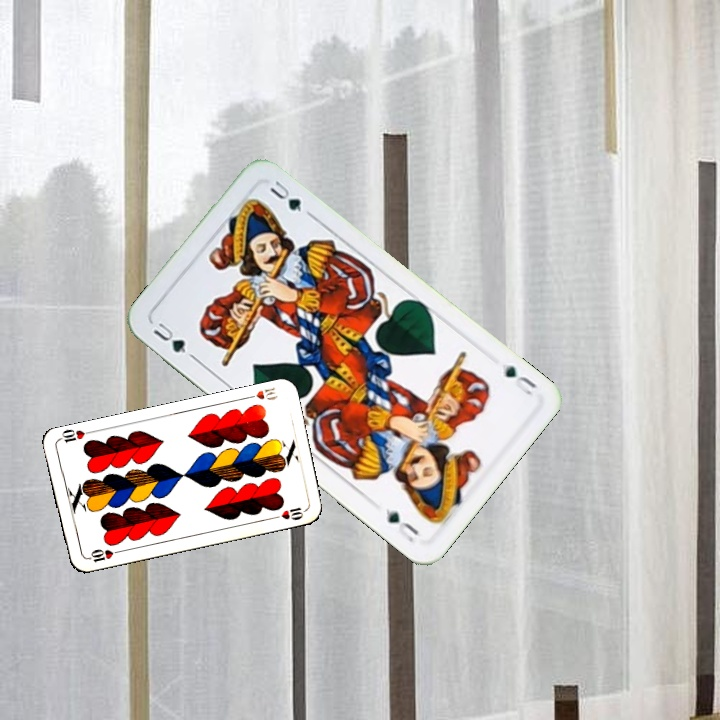GU: (149, 318, 189, 356), (500, 360, 540, 398)
H10: (83, 545, 123, 565), (241, 383, 280, 403)
